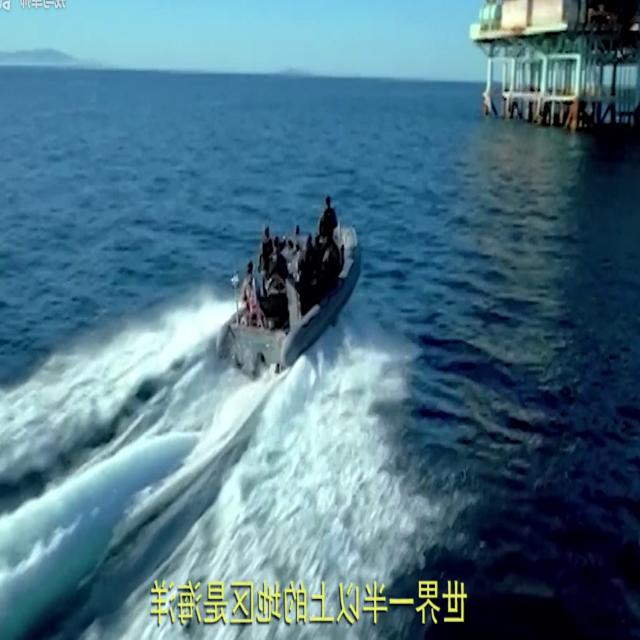houseboat: (215, 198, 359, 374)
